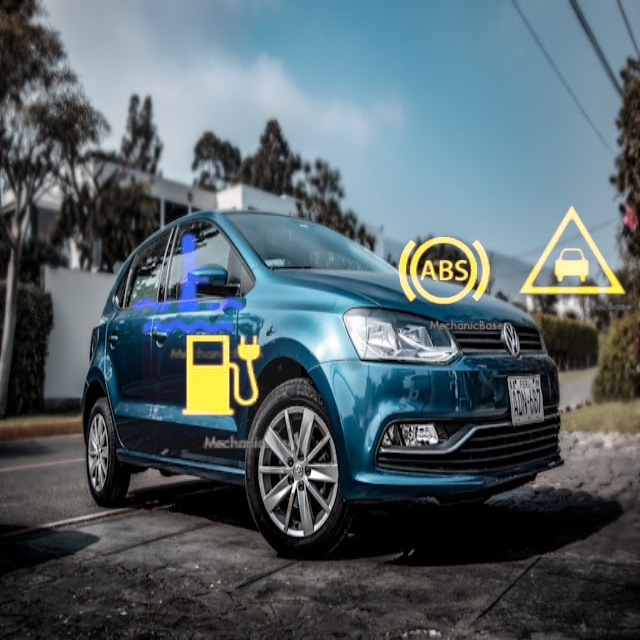symbol: (106, 203, 270, 367), (142, 297, 301, 456), (506, 186, 637, 317), (379, 207, 508, 336)
